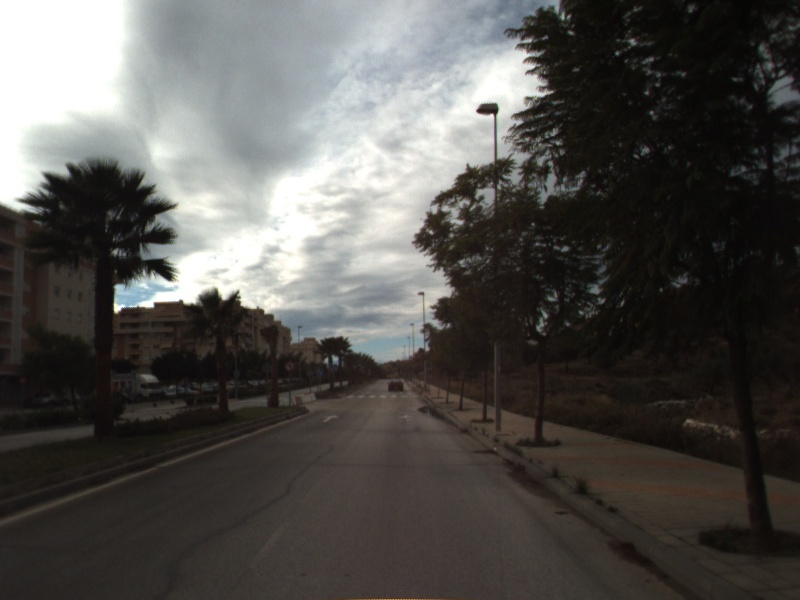STRAIGHT: (319, 412, 341, 425)
